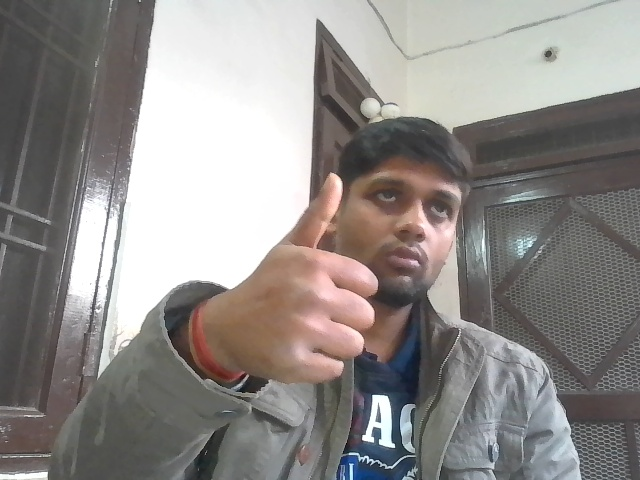BestOfLuck: (251, 168, 380, 391)
